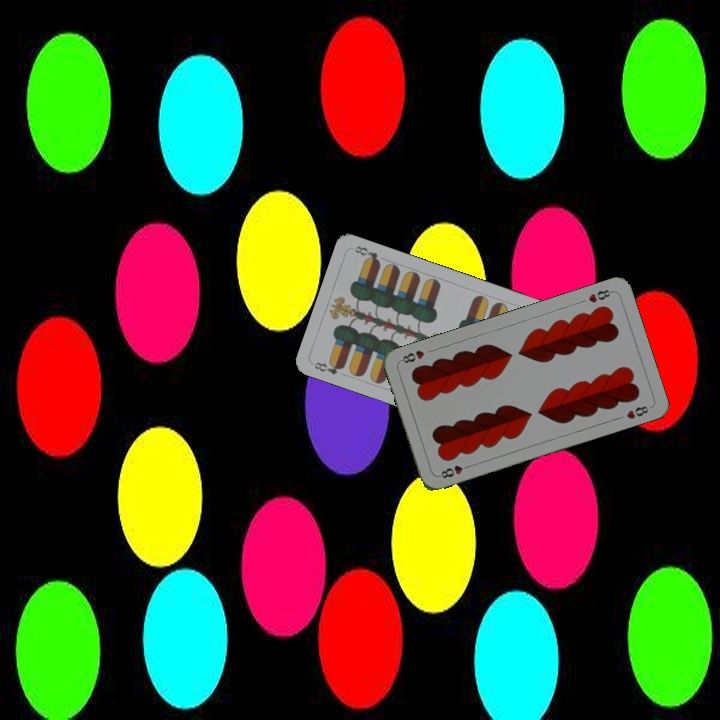E8: (310, 357, 346, 377)
H8: (434, 460, 474, 481), (584, 285, 616, 305)
